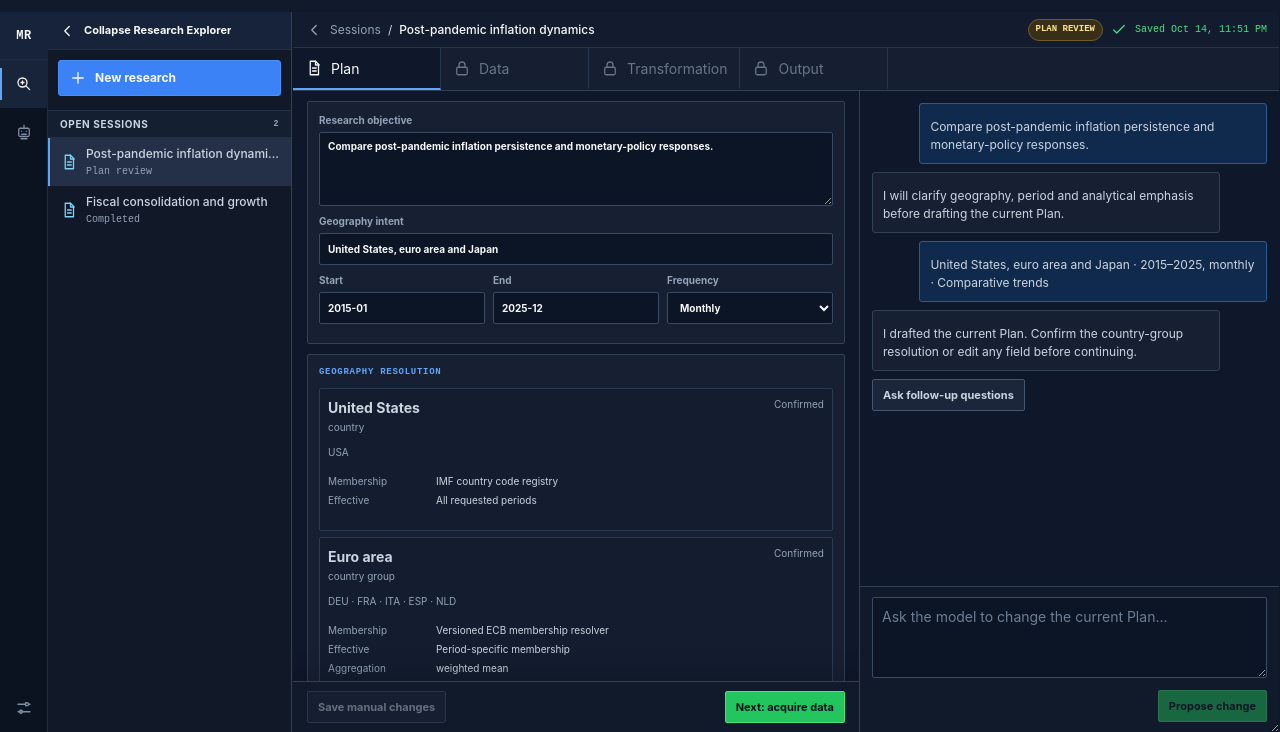
it: Macro Research Agent interfaces › opens a second clarification round from the reviewed Plan
Click the button "Ask follow-up questions".
click(948, 395)  # box [872, 379, 1025, 411]
(page scrolled)
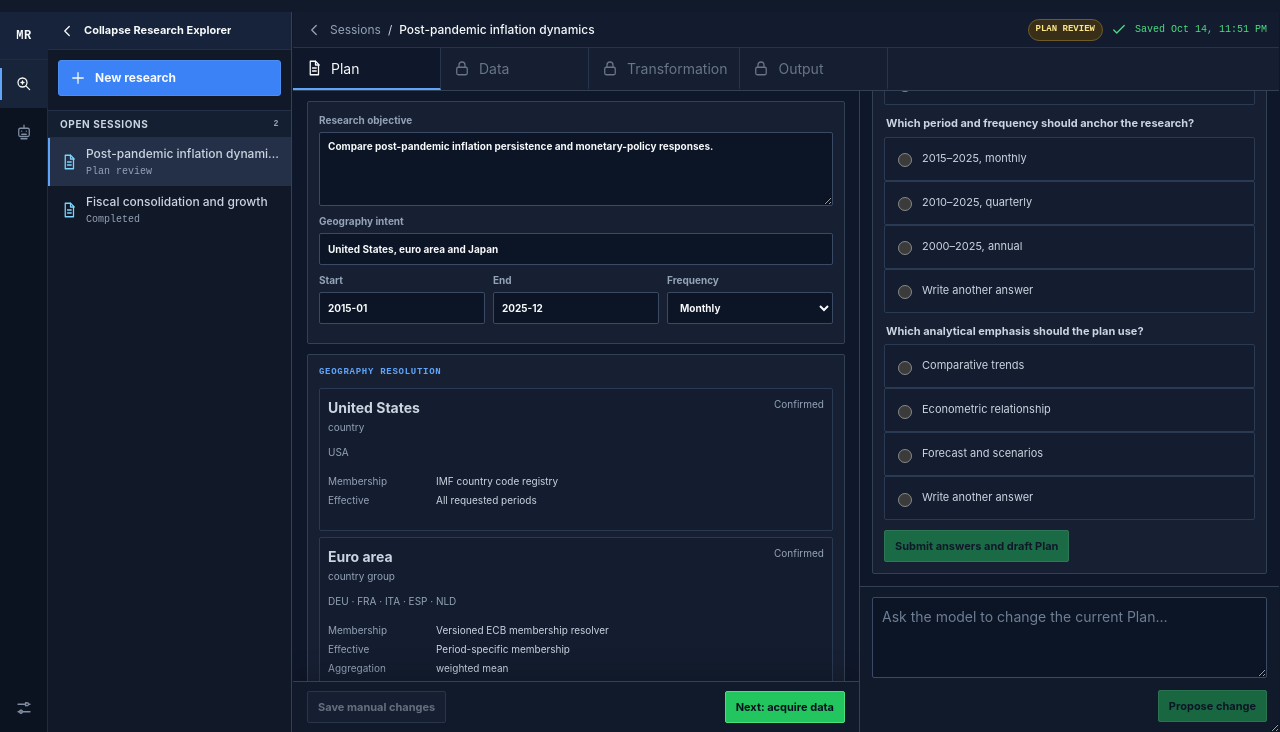
Result: the button "Submit answers and draft Plan" is disabled at [884, 530, 1069, 562]
